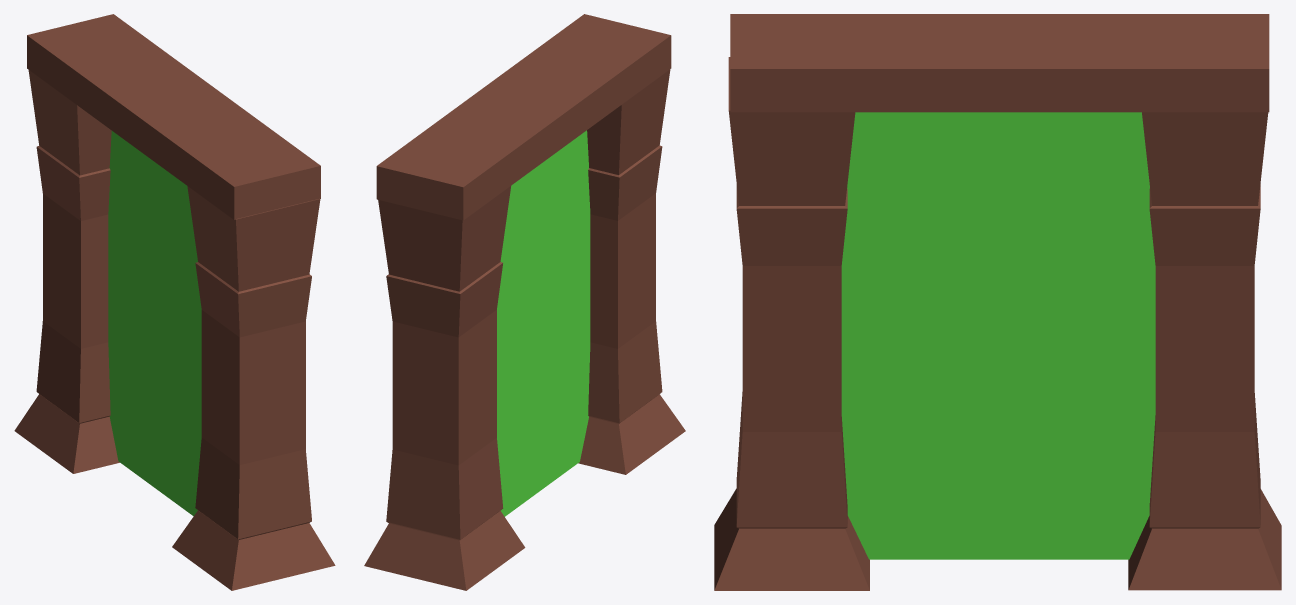
The model's file is PortalGate.fbx.
3 renders of one model, left to right at view 1: azimuth 30°, elevation 25°; view 2: azimuth 150°, elevation 25°; view 3: azimuth 270°, elevation 25°, orthographic. The views are drawn at different scales.
Visible parts, largest first — view 1: Cube.001, Cube.003, Cube.002, Cube; view 2: Cube, Cube.003, Cube.002, Cube.001; view 3: Cube.003, Cube.001, Cube, Cube.002.
Part boxes in pixels (x1,y1,x2,y2): Cube.001: (172, 186, 335, 590); Cube.003: (108, 131, 201, 516); Cube.002: (27, 14, 320, 219); Cube: (14, 70, 119, 473); Cube: (364, 186, 525, 590); Cube.003: (497, 130, 590, 516); Cube.002: (376, 14, 671, 220); Cube.001: (578, 69, 685, 474); Cube.003: (841, 112, 1155, 559); Cube.001: (714, 57, 869, 590); Cube: (1128, 112, 1281, 590); Cube.002: (730, 14, 1269, 112).
Size of the model in its own units: 168 by 616 by 614.
